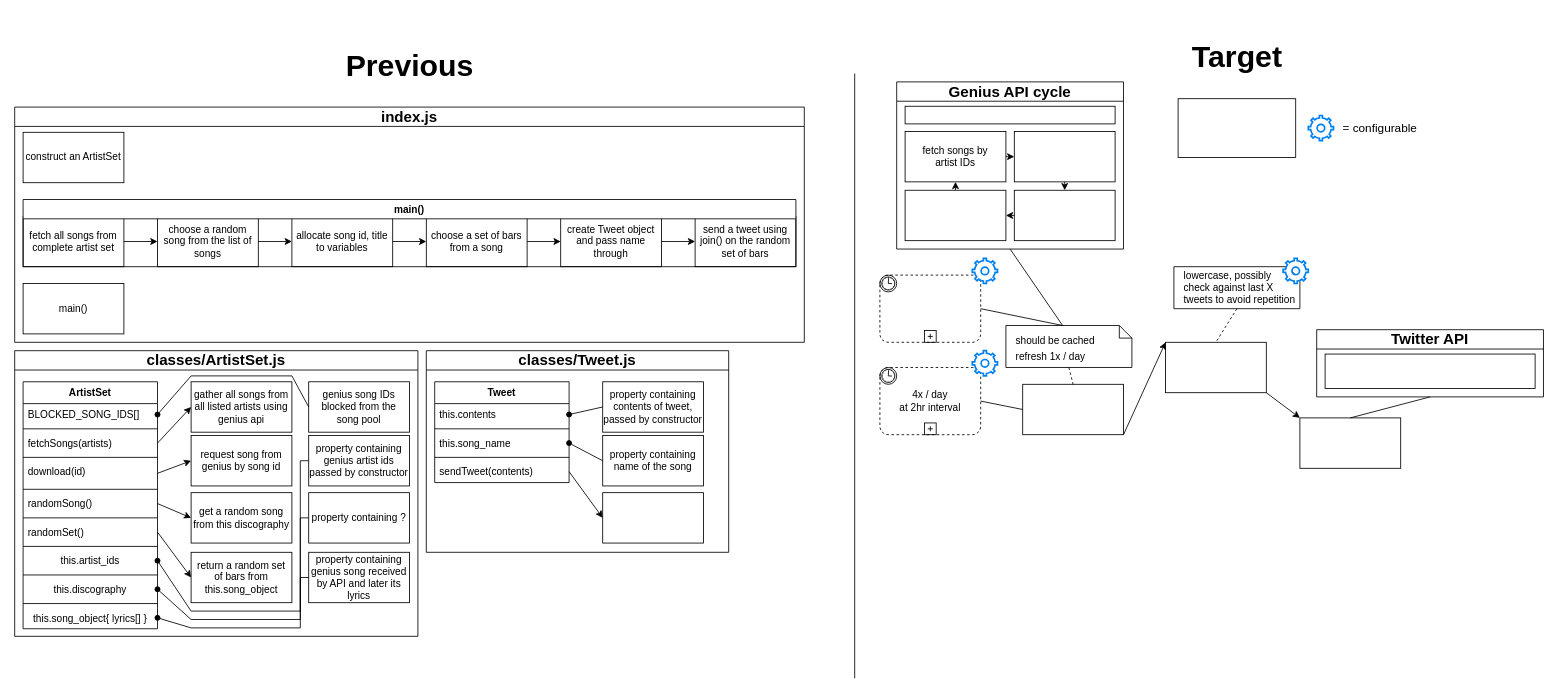
The diagram is 1558 pixels wide and 694 high, and some of its shapes have lost their labels. Each missing label, with the centre of its shape:
"1x / day at midnight" belongs at point (930, 308).
"choose a random song from list of songs" belongs at point (1073, 409).
"get a list of songs through pagination" belongs at point (1064, 156).
"Goal: make this usable with any artist on genius, and any twitter bot!" belongs at point (1236, 128).
"https://github.com/farshed/genius-lyrics-api" belongs at point (1009, 114).
"https://github.com/plhery/node-twitter-api-v2#documentation" belongs at point (1429, 370).
"post a tweet" belongs at point (653, 517).
"post tweet" belongs at point (1350, 442).
"re-run process 1x / day" belongs at point (955, 215).
"select 2-3 bars from song" belongs at point (1215, 367).
"store all songs in JSON file per-artist" belongs at point (1064, 215).
